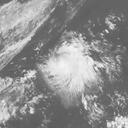cyclone: (42, 35, 103, 98)
